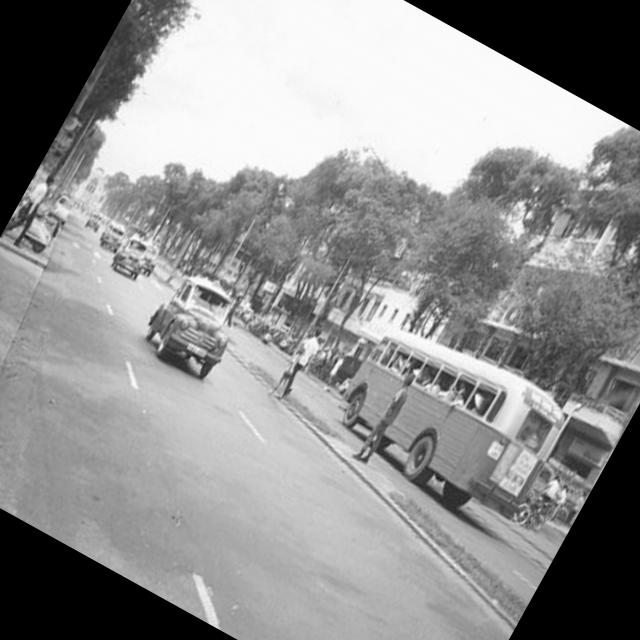bus: (320, 305, 581, 539)
